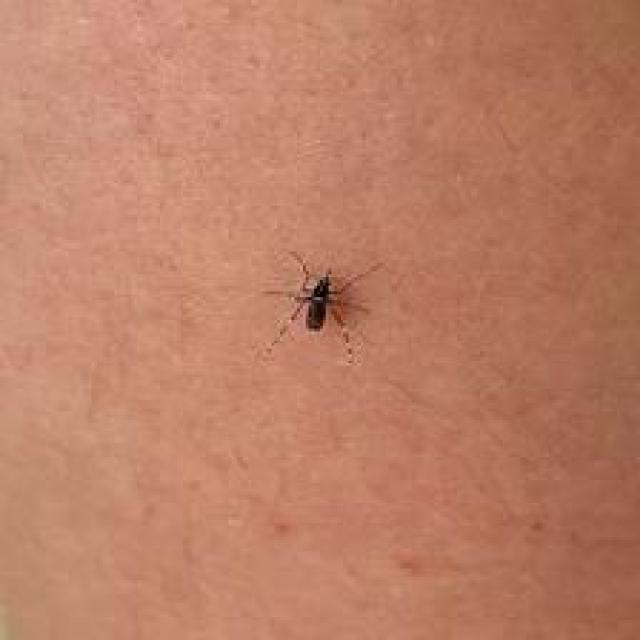Aedes albopictus: (262, 248, 384, 366)
